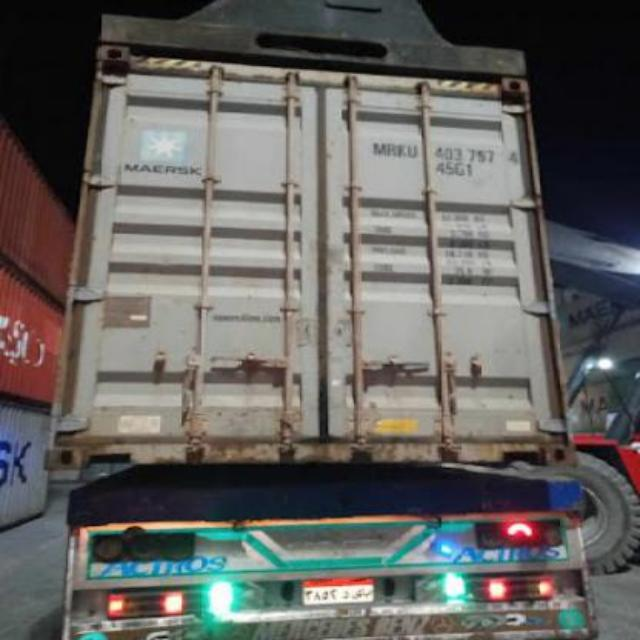0: (442, 144, 454, 162)
3: (452, 144, 464, 164)
4: (504, 144, 524, 166), (434, 146, 444, 160)
7: (484, 144, 498, 168), (466, 147, 476, 165)
9: (476, 148, 486, 170)
K: (396, 143, 406, 159)
M: (372, 138, 386, 158)
R: (384, 136, 394, 162)
U: (404, 138, 420, 160)
